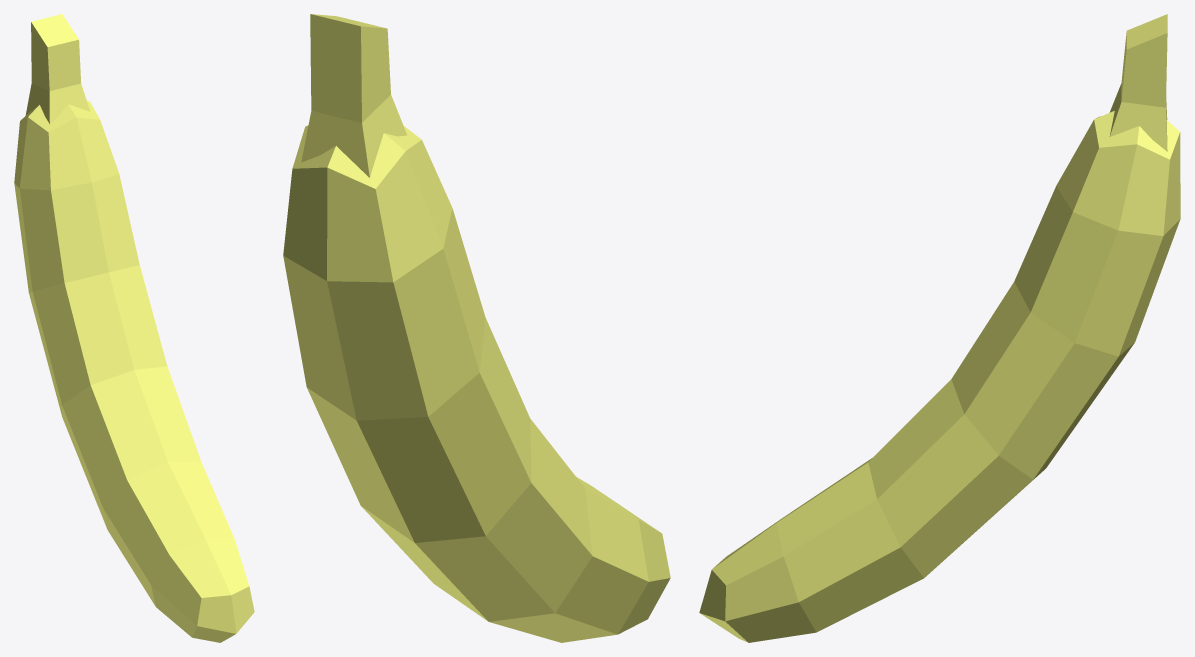
Rendered from banana.glb.
3 views of the same model, side by side, from view 1: azimuth 30°, elevation 25°; view 2: azimuth 150°, elevation 25°; view 3: azimuth 270°, elevation 25° (orthographic). The views are drawn at different scales.
Parts seen in each view (by area): view 1: Banana; view 2: Banana; view 3: Banana.
Boxes of the visible parts, bbox=[...] form: Banana: bbox=[14, 14, 254, 642]; Banana: bbox=[283, 14, 670, 642]; Banana: bbox=[699, 14, 1180, 642].
Size of the model in its own units: 0.4921 by 2.2 by 1.56.
Materials: 1 (1 with a texture image).
